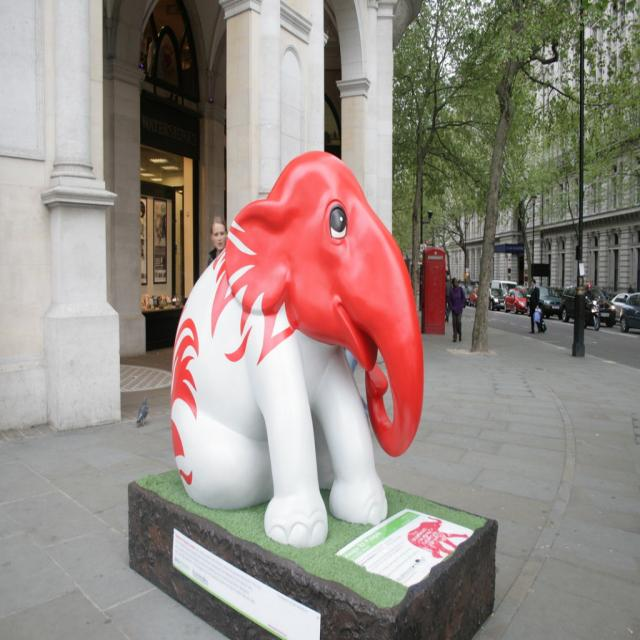elephant: (168, 130, 430, 549)
